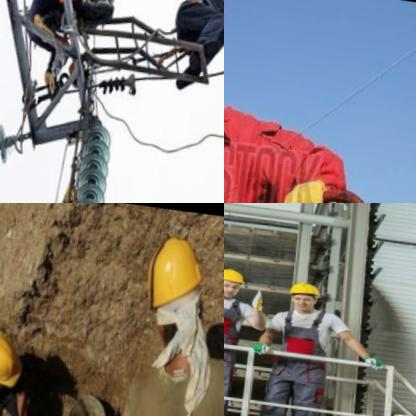helmet: (137, 224, 212, 350), (284, 268, 330, 315), (0, 328, 24, 388), (224, 257, 250, 298)
